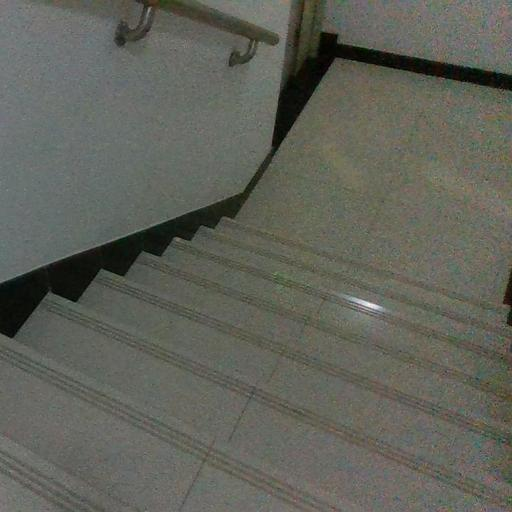Stairs: (0, 219, 512, 512)
